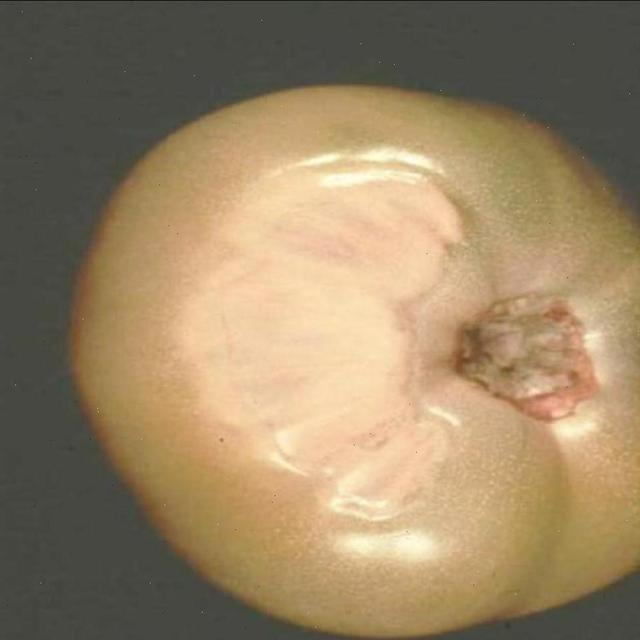Sunscald Fruit: (0, 128, 250, 349)
